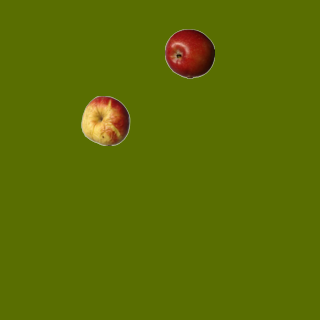Apple Braeburn: (164, 28, 214, 78)
Apple Red Yellow 1: (80, 95, 130, 145)
